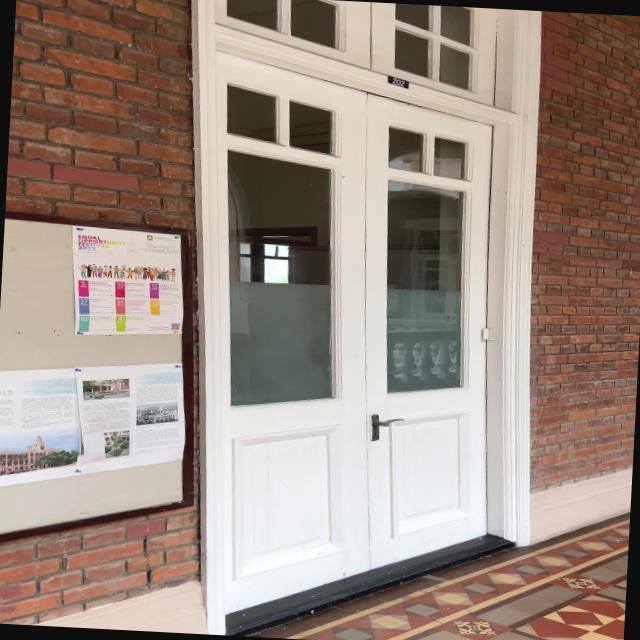room202: (382, 72, 412, 90)
